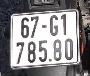0: (64, 38, 75, 61)
1: (60, 12, 69, 36)
5: (38, 40, 49, 63)
6: (19, 16, 30, 39)
7: (30, 16, 40, 40), (15, 41, 25, 65)
8: (52, 39, 63, 62), (27, 41, 37, 64)
G: (48, 14, 59, 38)
